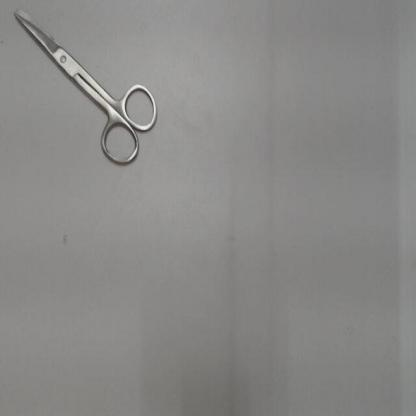Dressing Scissors: (4, 2, 166, 178)
